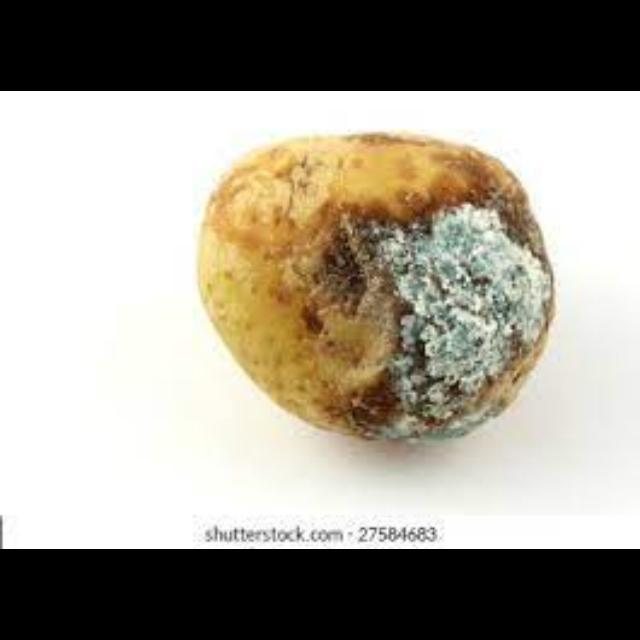Diseased-fungal potato: (193, 132, 552, 438)
